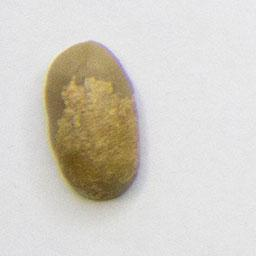longberry: (41, 37, 145, 205)
